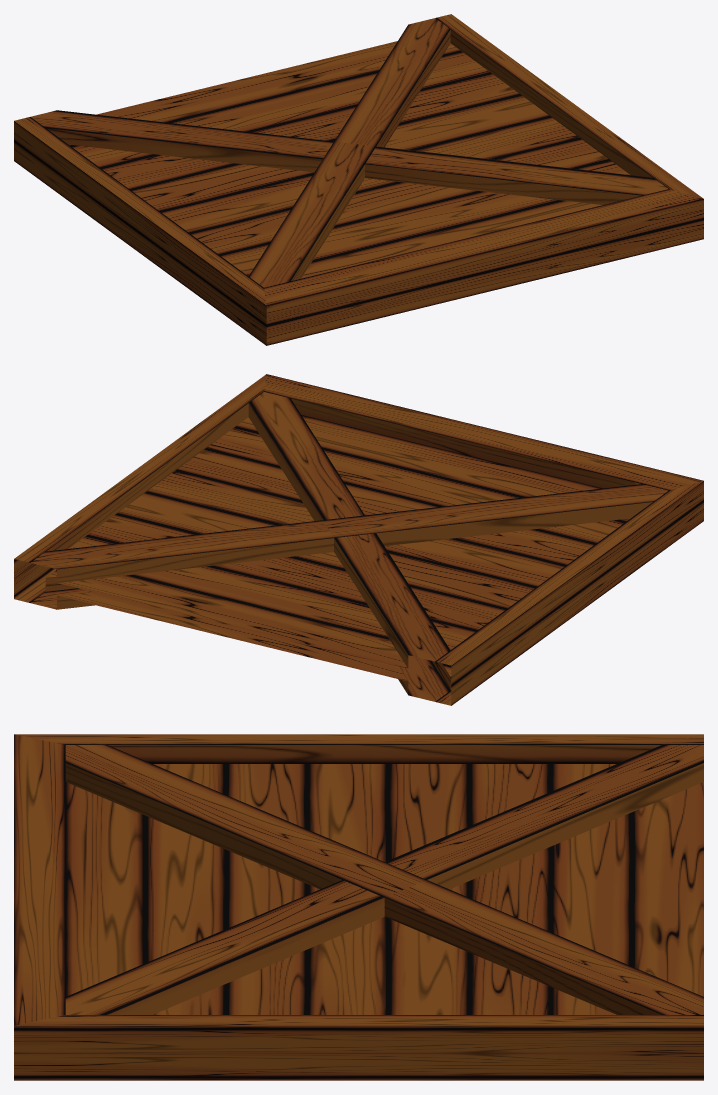
File: MTile_05.fbx
The picture shows the model from 3 angles, top to bottom: view 1: azimuth 30°, elevation 25°; view 2: azimuth 150°, elevation 25°; view 3: azimuth 270°, elevation 25°; orthographic projection. The views are drawn at different scales.
Parts seen in each view (by area): view 1: MTile_05; view 2: MTile_05; view 3: MTile_05.
Part boxes in pixels (<box>): MTile_05: <box>14,14,703,345</box>; MTile_05: <box>14,374,703,705</box>; MTile_05: <box>14,734,703,1080</box>.
Size of the model in its own units: 255 by 22.41 by 255.
